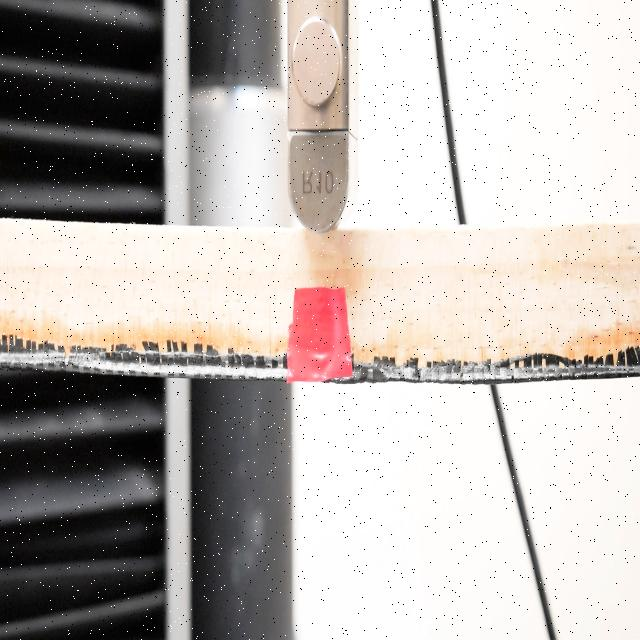wood: (0, 221, 640, 380)
